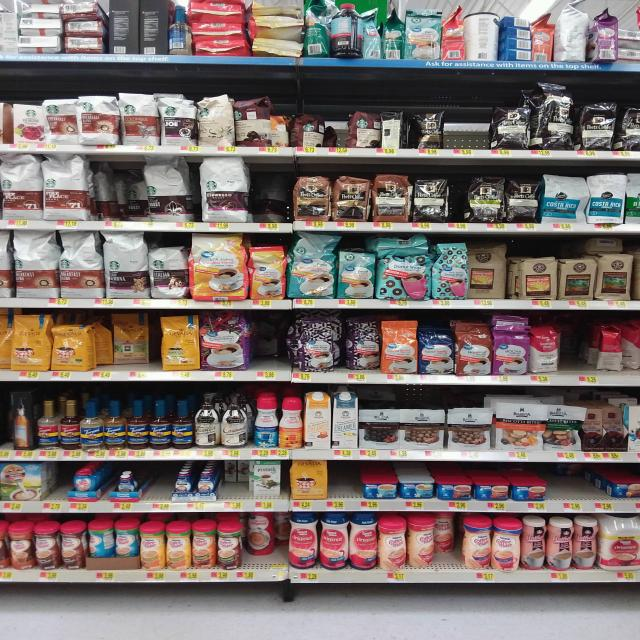unorganised: (464, 245, 509, 298), (112, 307, 147, 366), (594, 325, 625, 375), (253, 179, 285, 222), (245, 511, 275, 556), (433, 513, 457, 557), (129, 180, 152, 216), (224, 458, 249, 485)
